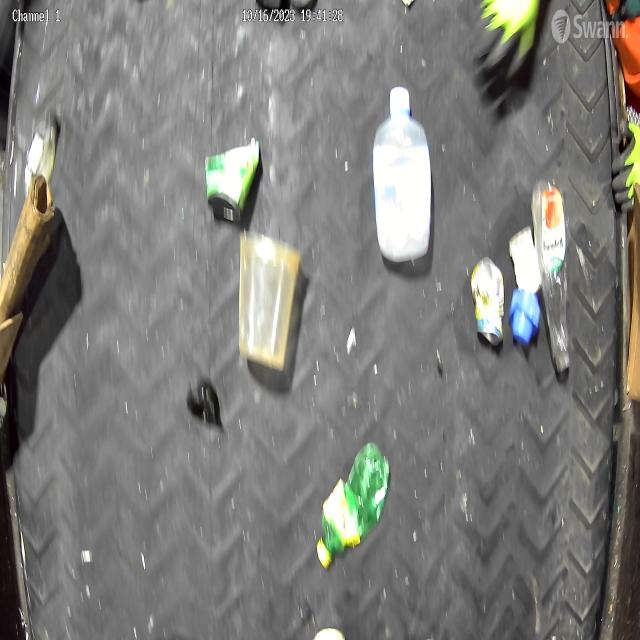can: (205, 135, 261, 225), (470, 256, 505, 350)
plastic_bottle: (531, 178, 571, 374)
